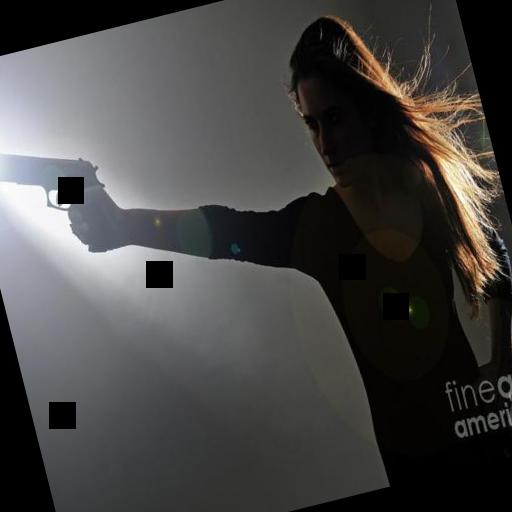Handgun: (0, 126, 120, 282)
